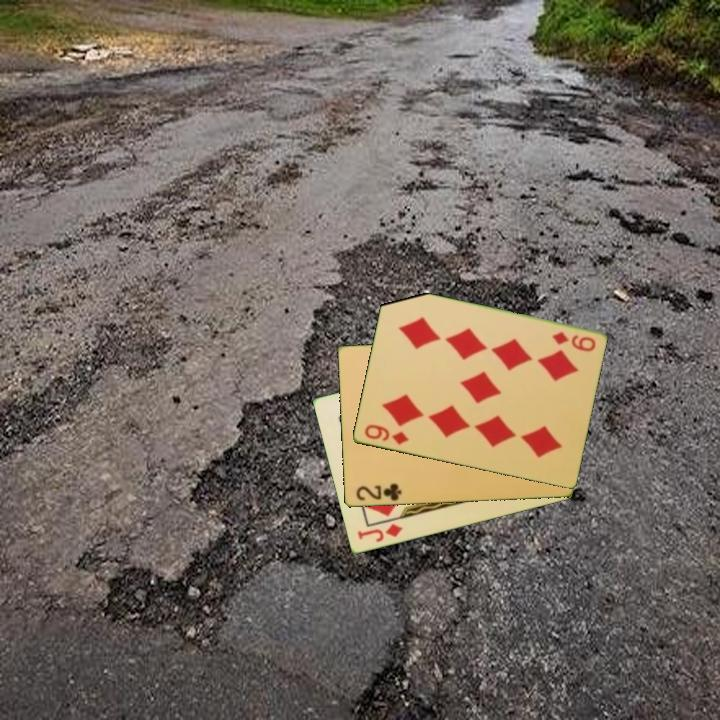2c: (353, 480, 404, 504)
9d: (361, 421, 411, 448), (548, 328, 598, 355)
Jd: (354, 520, 405, 545)
